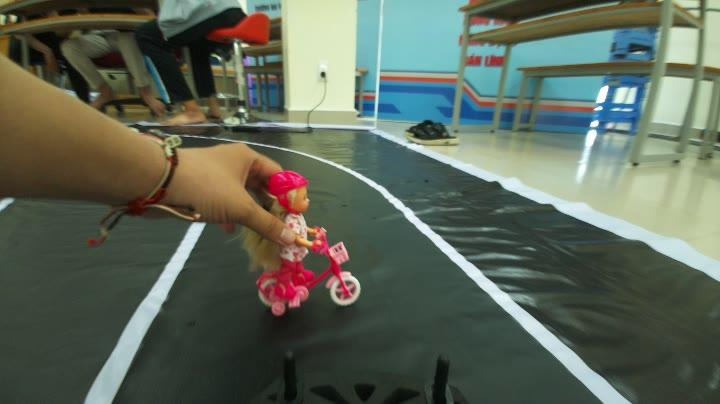pedestrian: (252, 170, 370, 313)
